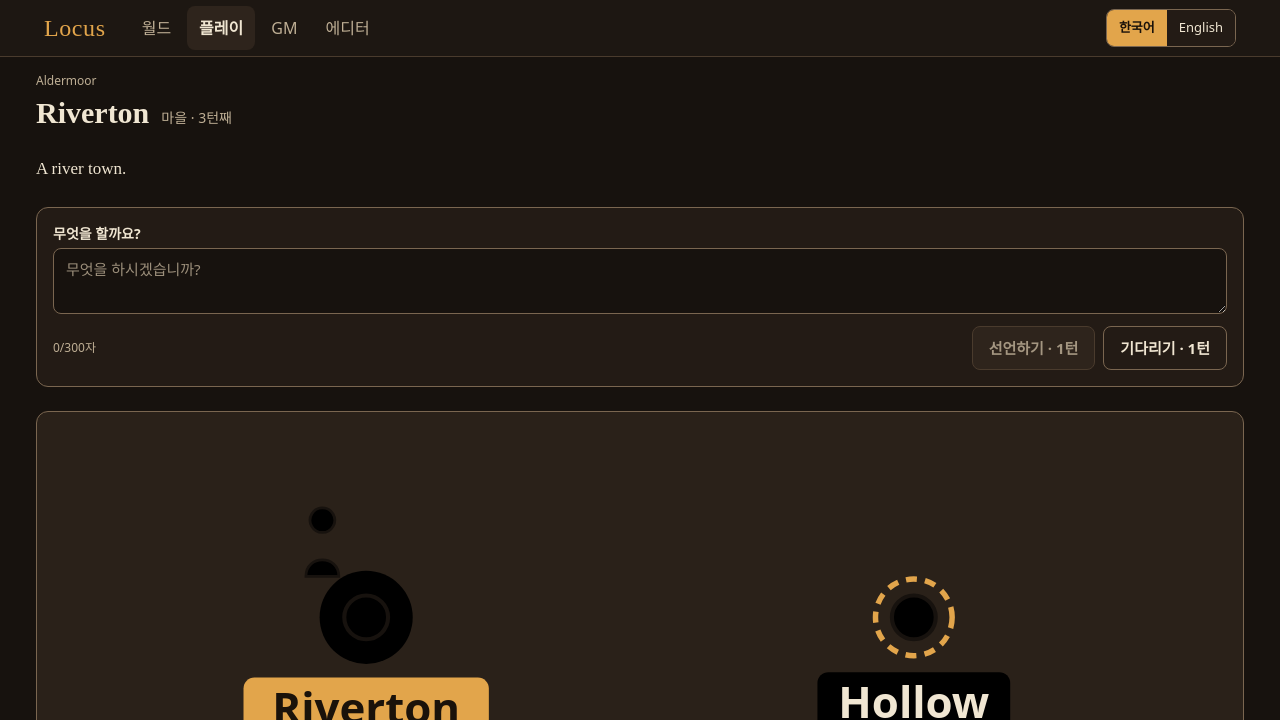
Test case: TP-V4-5 and BR-V4-22: one result band › the result is in the band only; the next turn empties it, a refusal keeps it; [close] folds it
expect the heading "Riverton" is shown: met, box [36,95,149,131]
Click the button with test id "wait-btn" at {"x": 1165, "y": 348}, box [1103,326,1227,370]
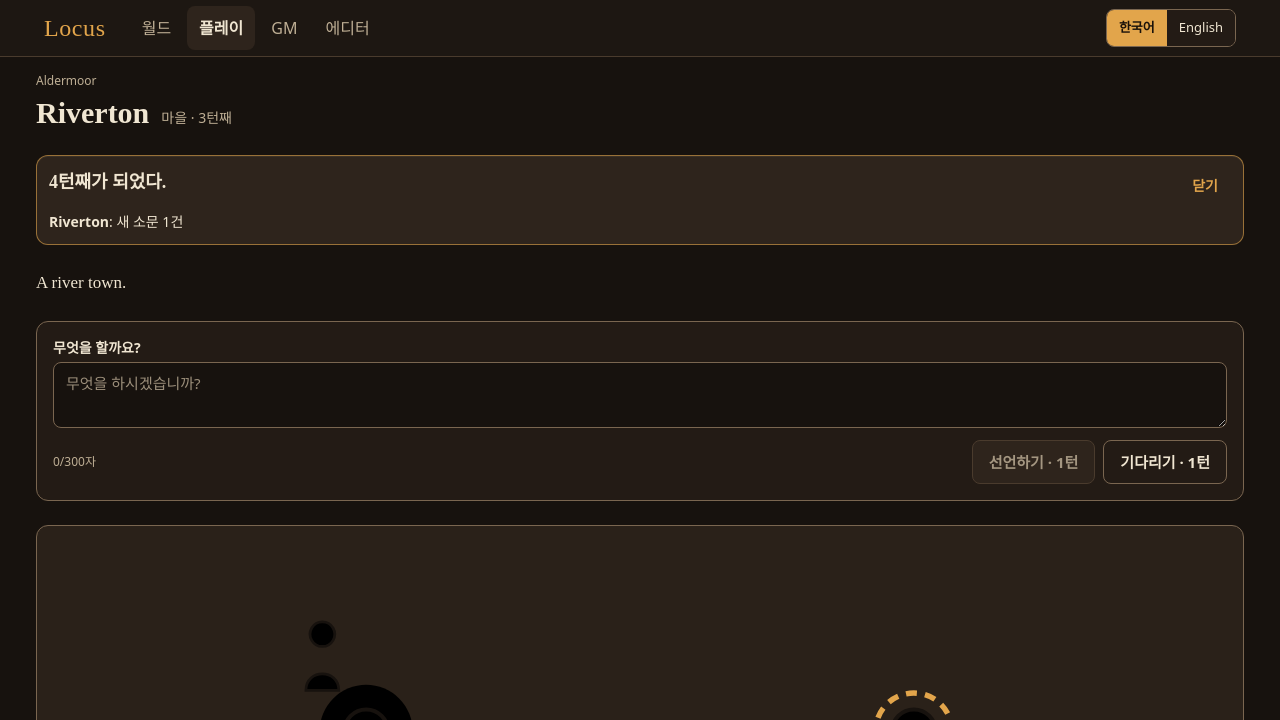
Click the button with test id "wait-btn" at {"x": 1165, "y": 462}, box [1103,440,1227,484]
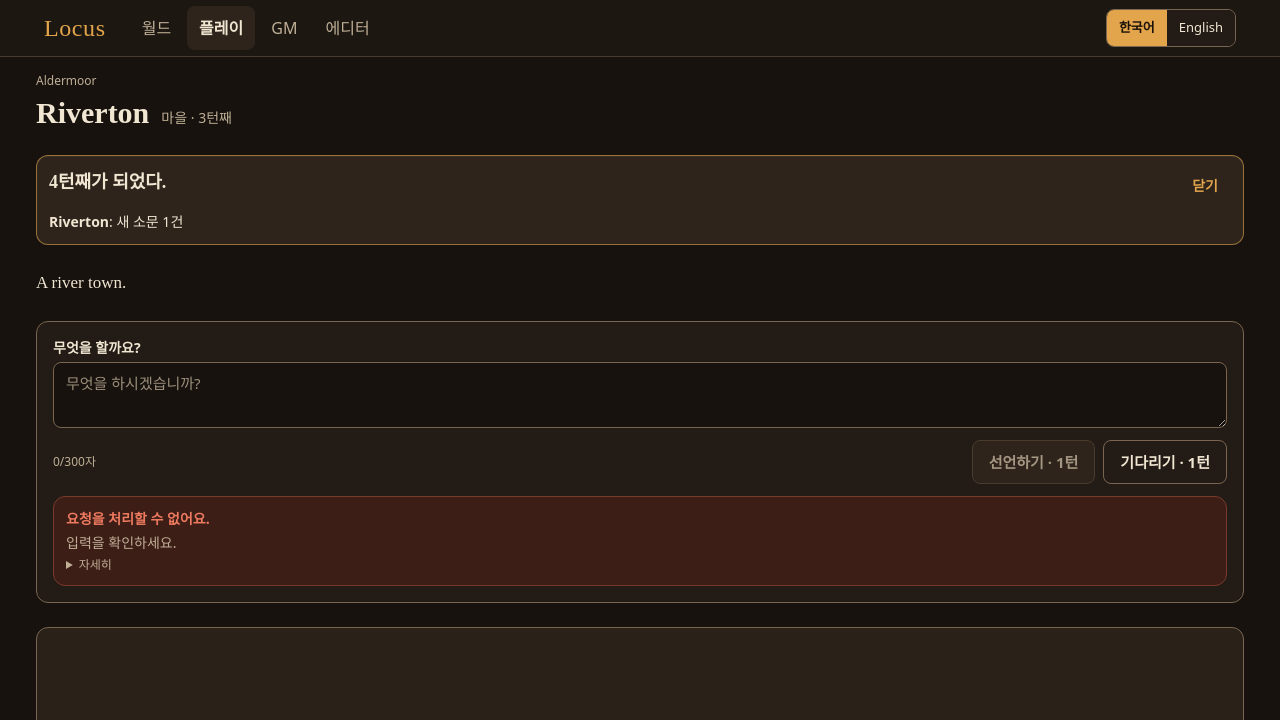
expect the element with test id "result-band" is shown: met, box [36,155,1244,245]
expect the element with test id "action-error" is shown: met, box [53,496,1227,586]
Click the button with test id "wait-btn" at {"x": 1165, "y": 462}, box [1103,440,1227,484]
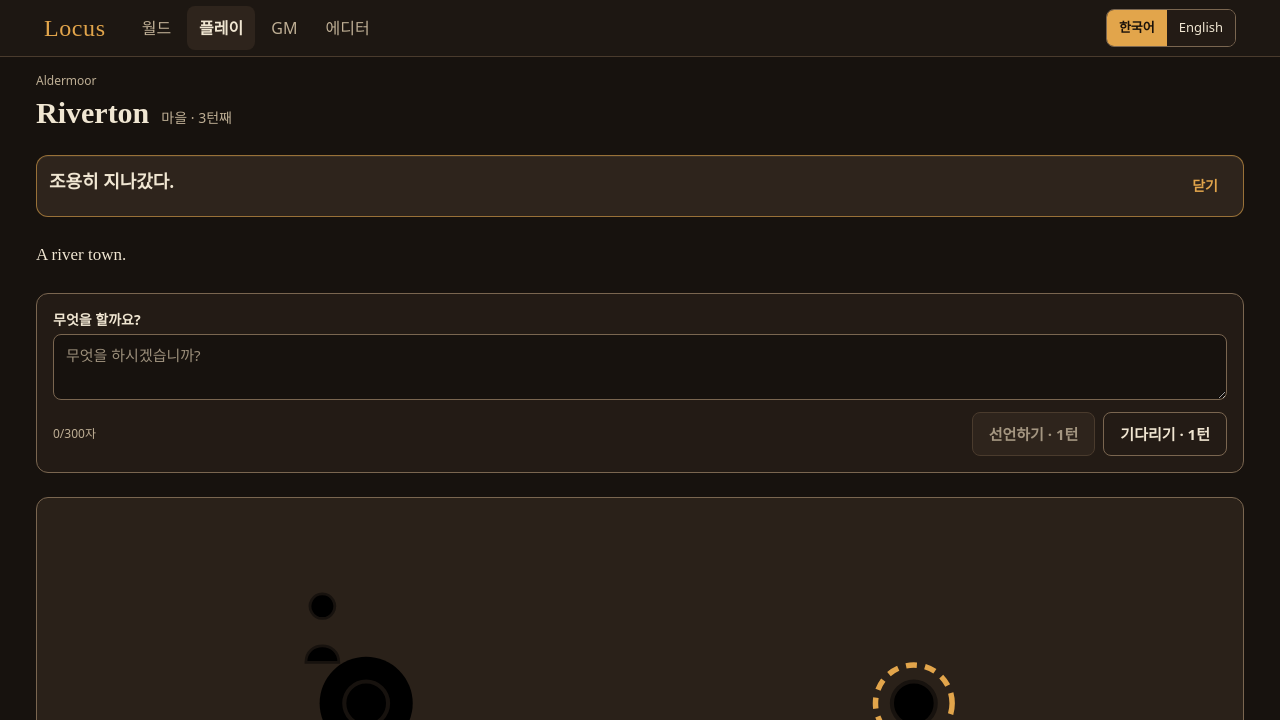
expect the element with test id "result-band" is shown: met, box [36,155,1244,217]
Click the button with test id "result-band-close" at {"x": 1205, "y": 186}, box [1179,168,1231,204]
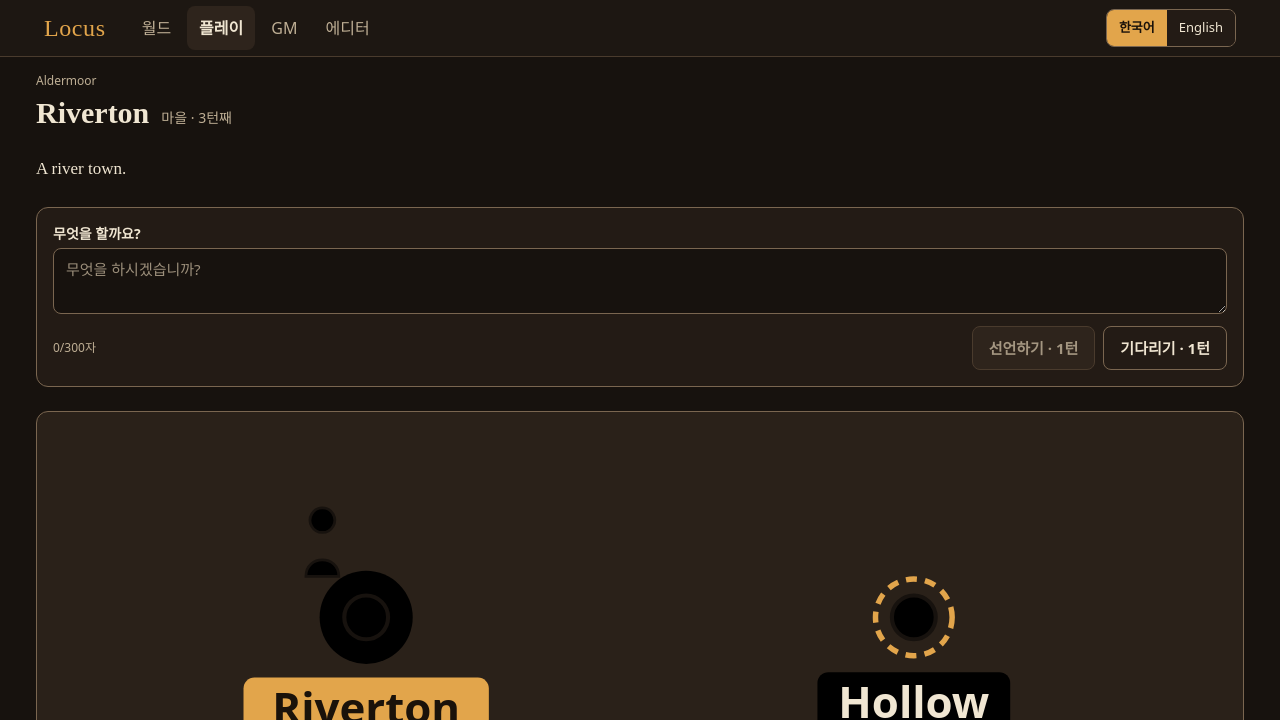
expect the element with test id "result-band" is gone: met
